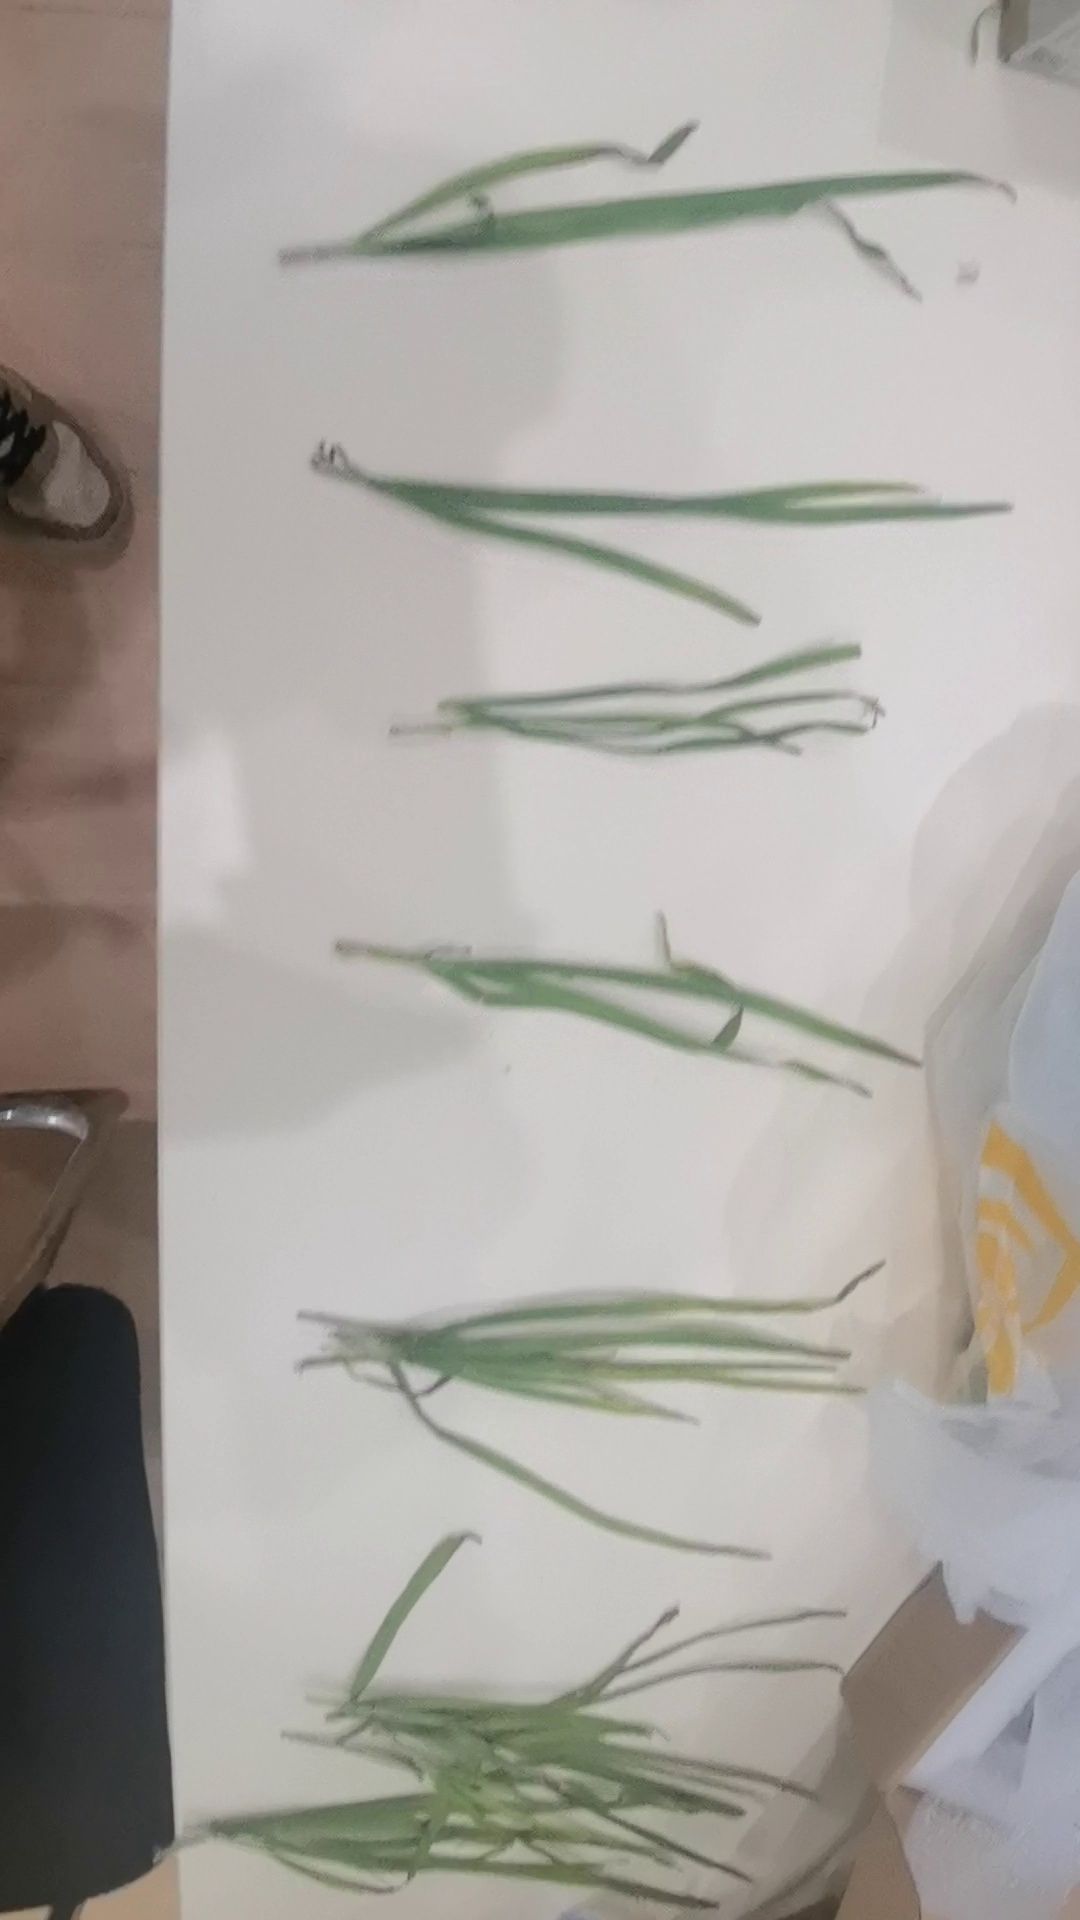chives: (167, 1567, 932, 1920), (257, 1266, 951, 1545), (251, 119, 1043, 309), (284, 421, 1006, 607), (320, 902, 959, 1112), (386, 641, 922, 756)
